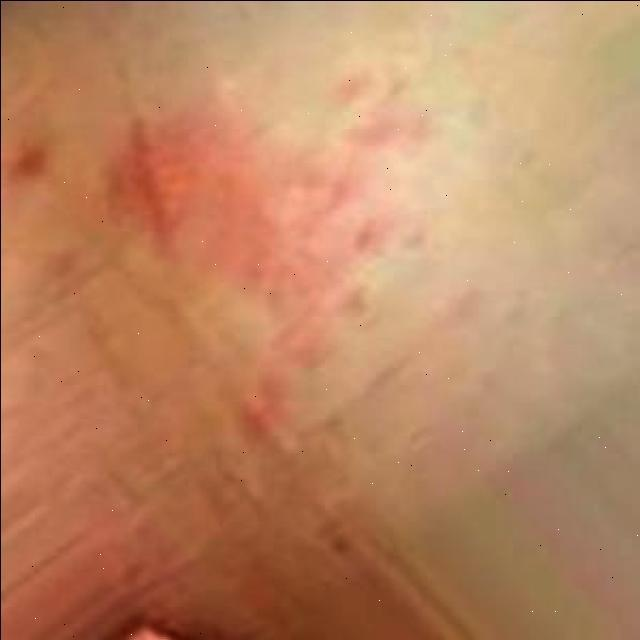Shingles: (101, 67, 421, 426)
